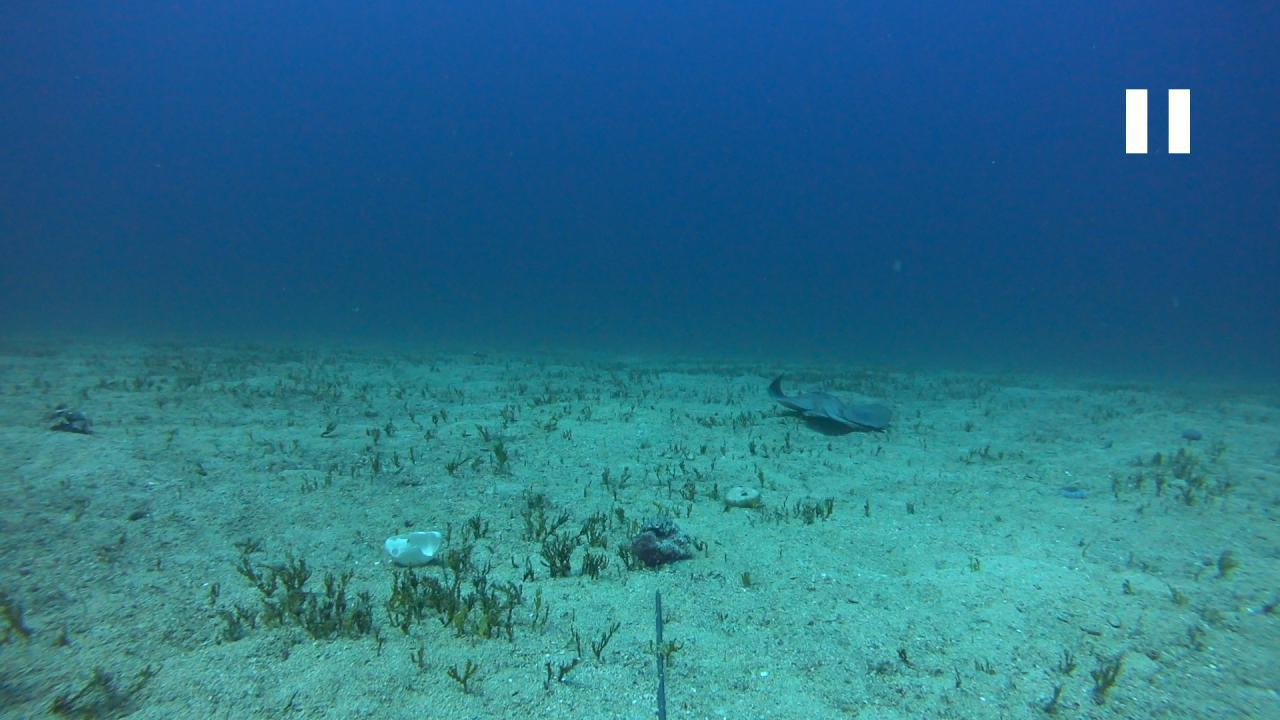dasyatis: (765, 372, 892, 432)
